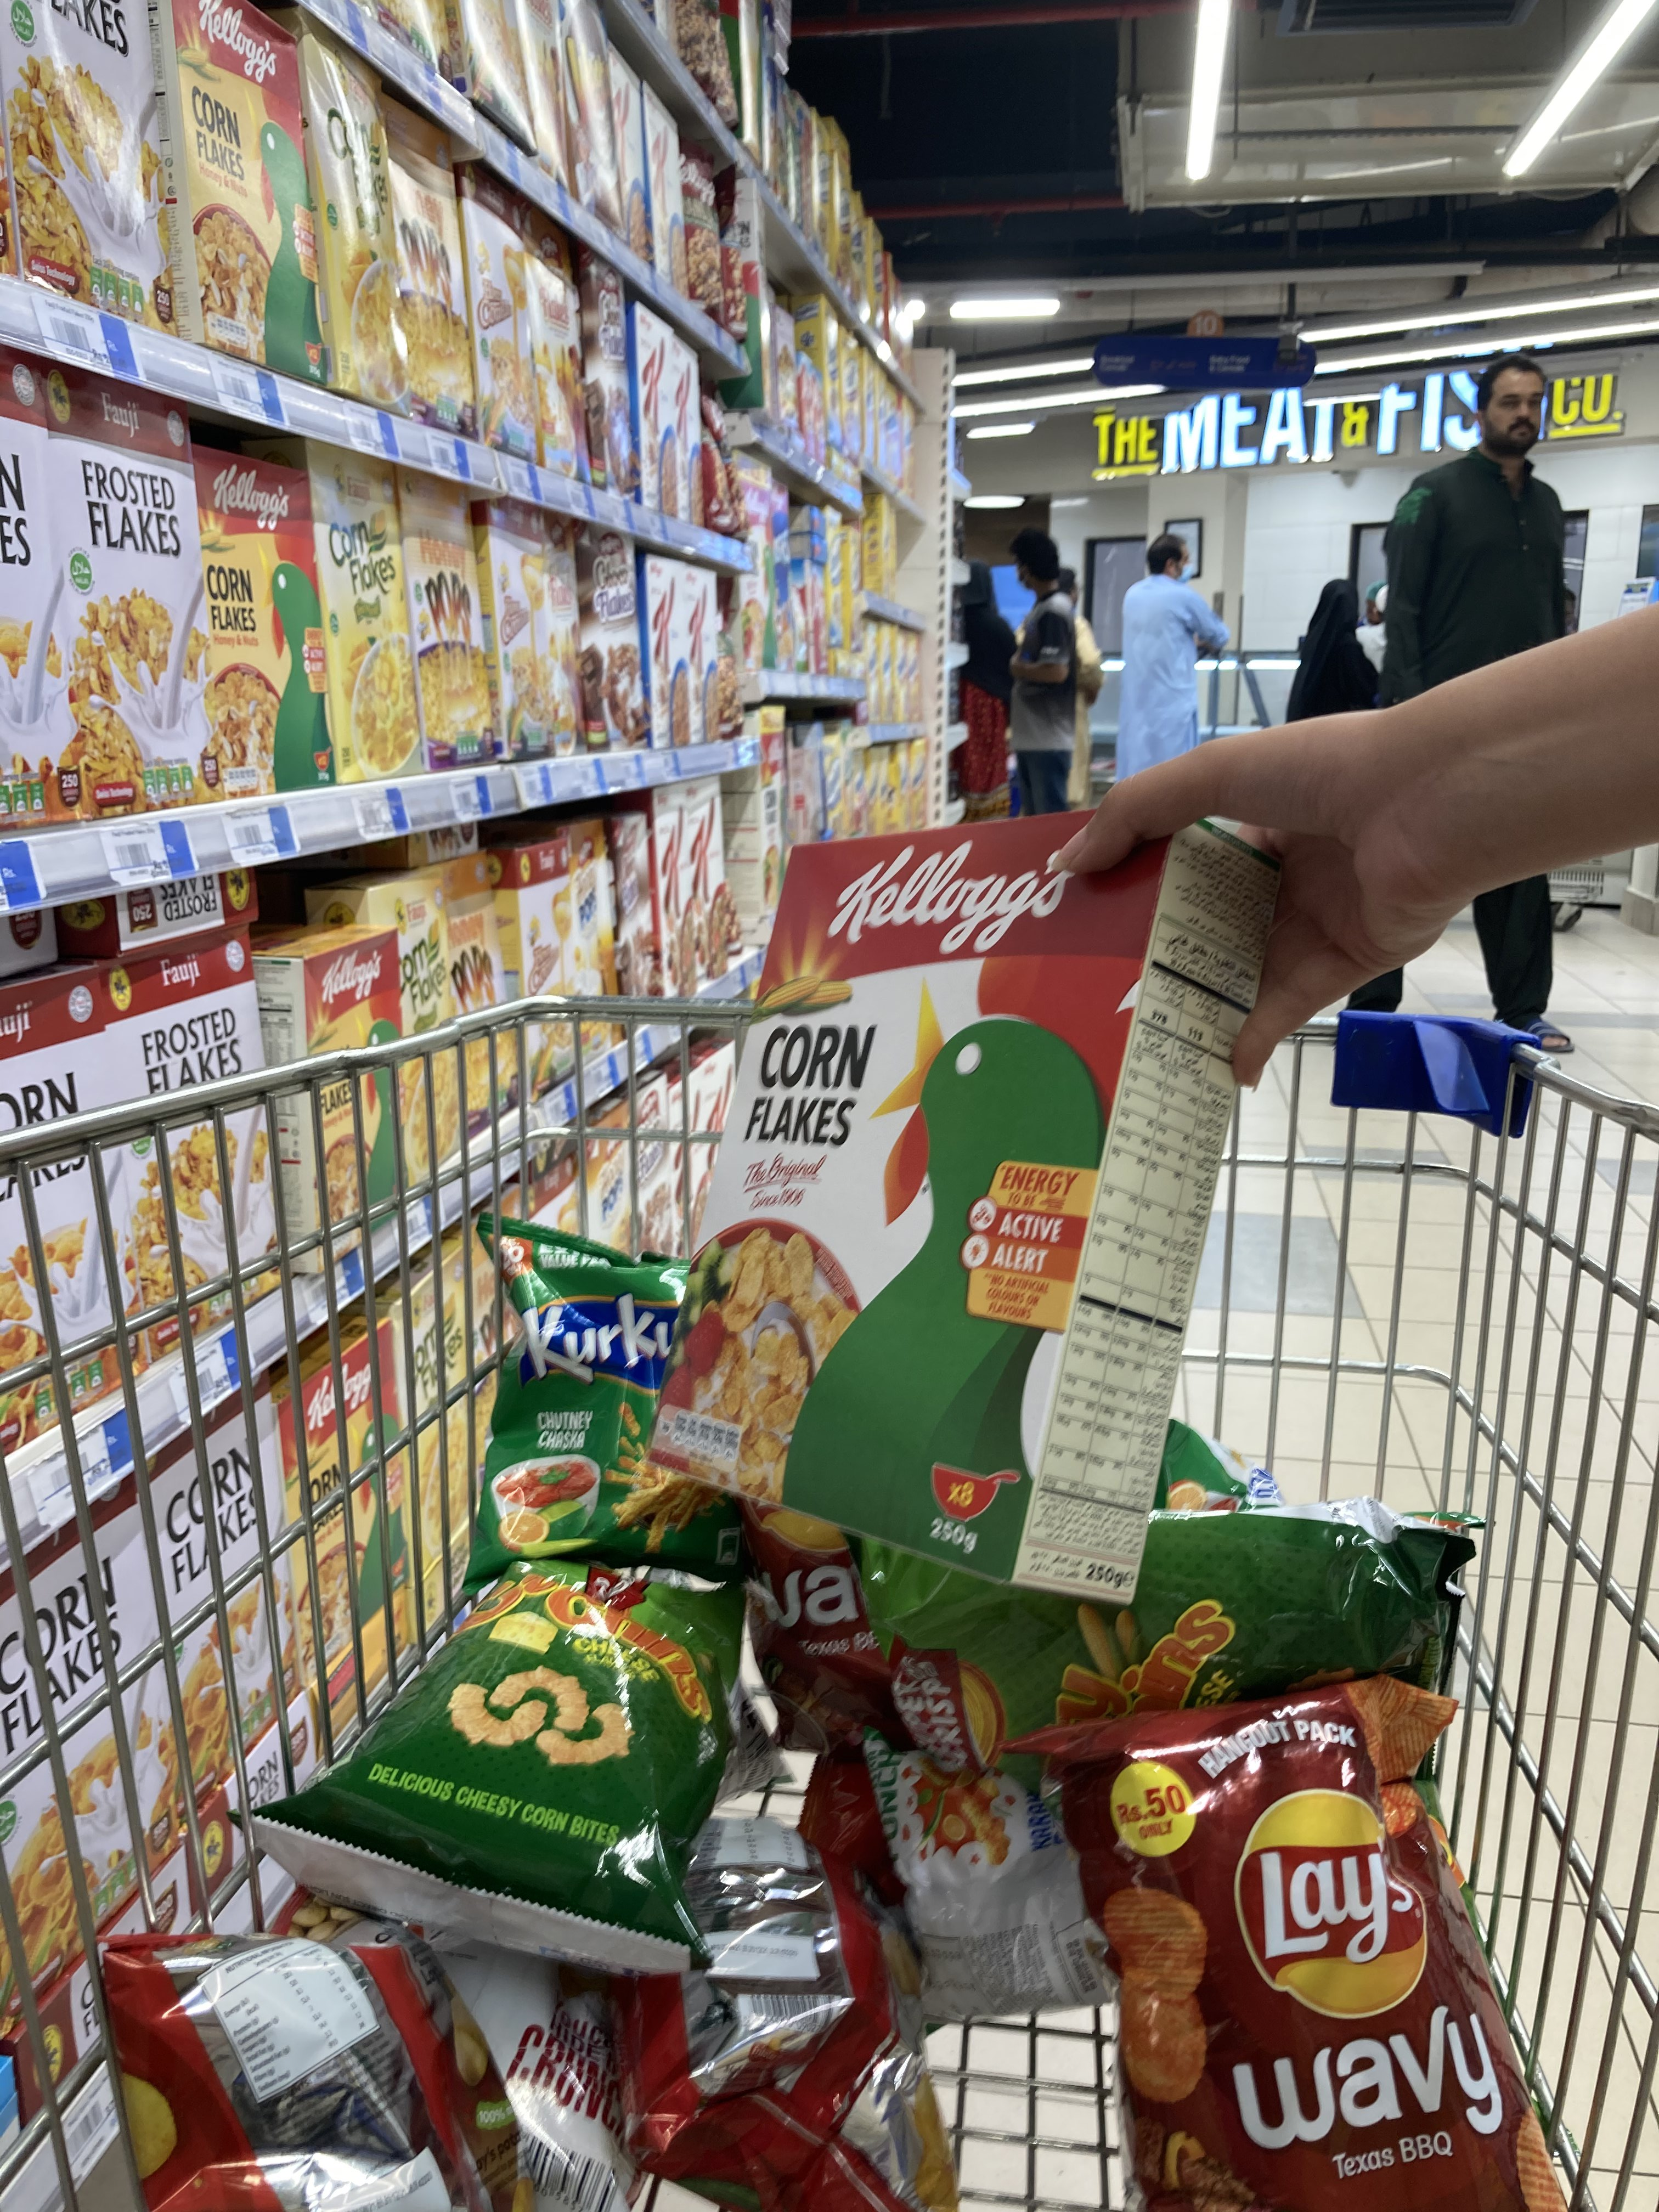Kellogg's Corn Flakes: (622, 805, 1284, 1606)
